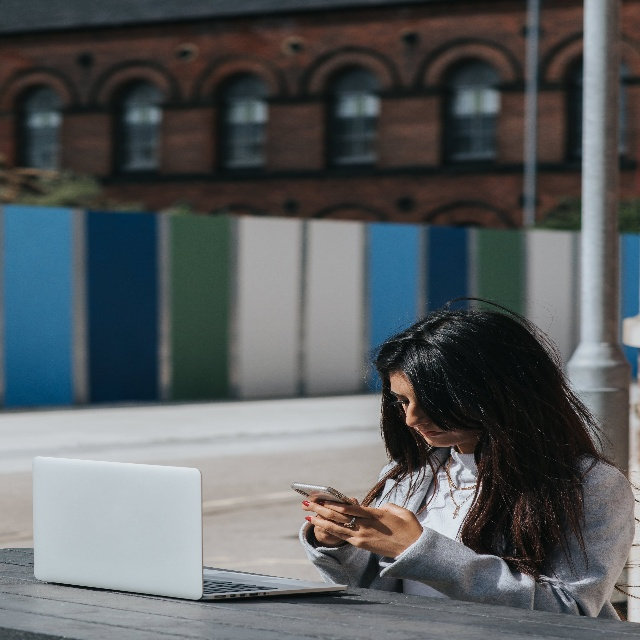Sin_guantes: (301, 493, 424, 559), (301, 489, 362, 546)
